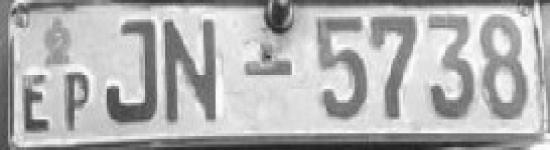-: (236, 40, 300, 96)
3: (422, 7, 478, 125)
5: (311, 9, 370, 126)
7: (367, 11, 422, 128)
8: (477, 7, 530, 126)
E: (18, 69, 54, 137)
J: (96, 12, 162, 132)
N: (161, 13, 226, 130)
P: (58, 66, 95, 136)
